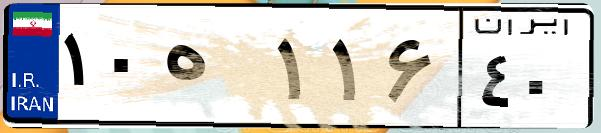0: (525, 38, 570, 115), (110, 28, 158, 98)
1: (270, 28, 330, 110), (330, 28, 385, 110), (57, 26, 110, 100)
4: (475, 38, 525, 113)
6: (385, 28, 445, 110)
ه: (158, 20, 270, 120)
